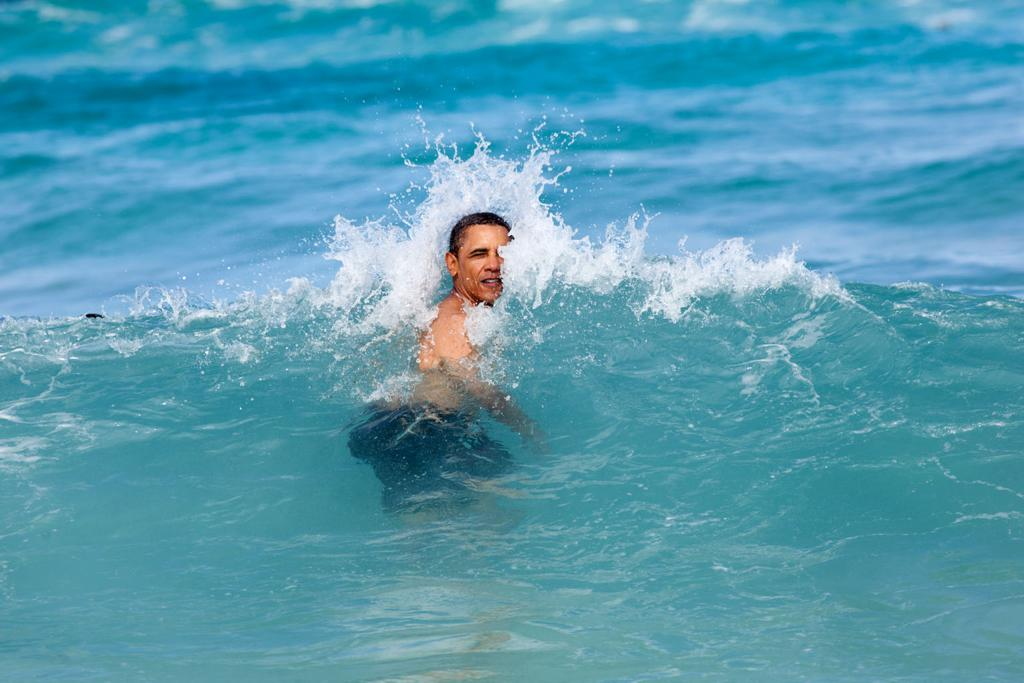face: (458, 228, 528, 300)
